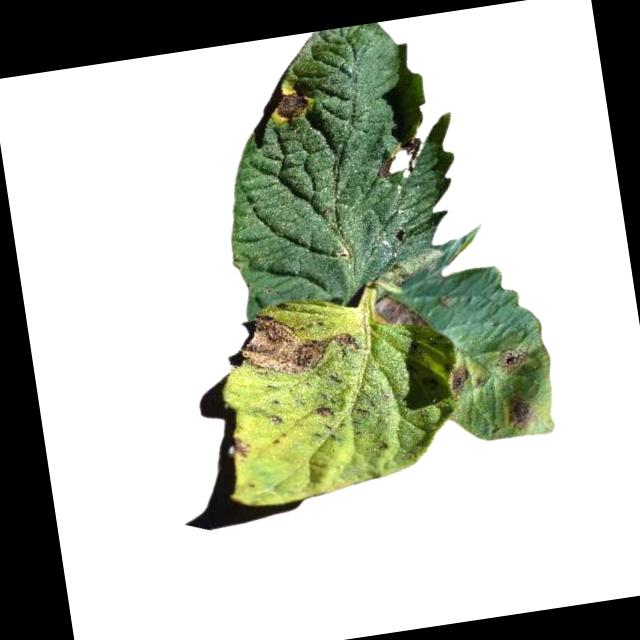Early_blight: (235, 301, 364, 384), (370, 289, 430, 335), (371, 136, 427, 181), (274, 89, 317, 123), (502, 391, 536, 430), (496, 345, 530, 377), (451, 365, 474, 401), (231, 436, 253, 459), (315, 405, 336, 422)
